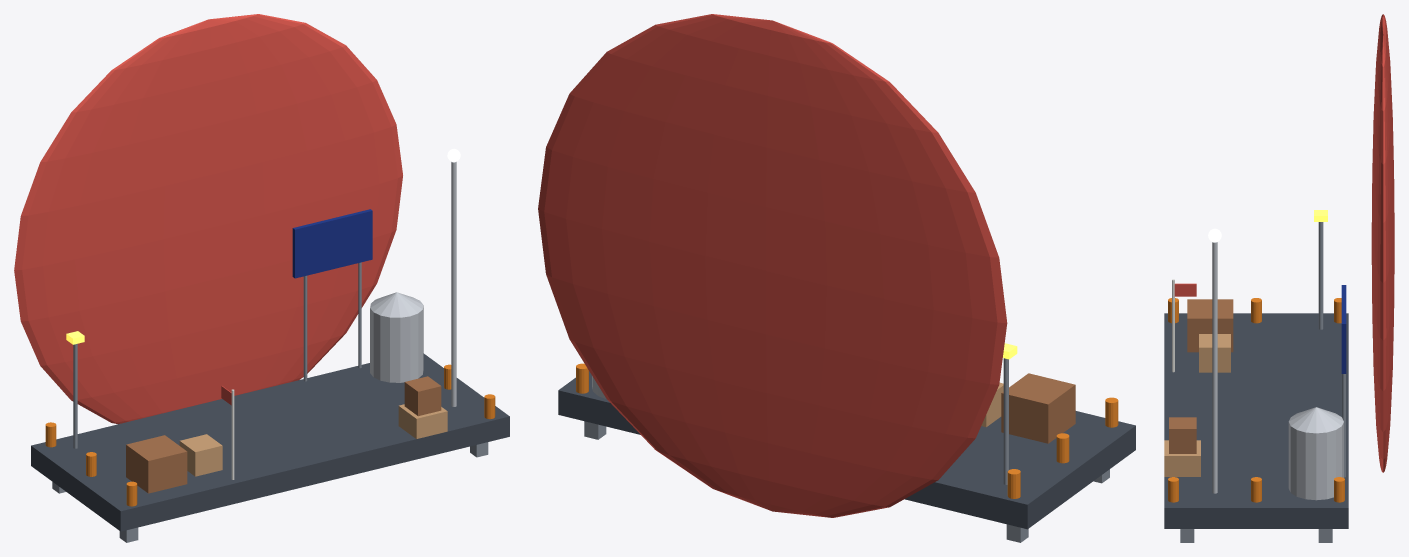
File: site_solar.glb
3 renders of one model, left to right at view 1: azimuth 30°, elevation 25°; view 2: azimuth 150°, elevation 25°; view 3: azimuth 270°, elevation 25°, orthographic. The views are drawn at different scales.
Parts seen in each view (by area): view 1: Sphere.001, Cube, Cube.011, Cylinder.007, Cube.005, Cylinder.008, Cube.006, Cube.008, Cube.007, Cone; view 2: Sphere.001, Cube, Cube.005, Cylinder.006; view 3: Cube, Sphere.001, Cylinder.007, Cube.005, Cylinder.008, Cube.006, Cone, Cube.008, Cube.007, Cylinder.006, Cube.011, Cube.010 (+1 smaller).
Boxes of the visible parts, left/top/right/bottom form: Sphere.001: left=14, top=14, right=402, bottom=424; Cube: left=31, top=353, right=509, bottom=531; Cube.011: left=292, top=209, right=372, bottom=278; Cylinder.007: left=370, top=305, right=423, bottom=382; Cube.005: left=126, top=435, right=187, bottom=493; Cylinder.008: left=451, top=161, right=456, bottom=406; Cube.006: left=179, top=434, right=222, bottom=476; Cube.008: left=404, top=376, right=441, bottom=416; Cube.007: left=398, top=404, right=447, bottom=438; Cone: left=370, top=292, right=423, bottom=317; Sphere.001: left=538, top=14, right=1007, bottom=517; Cube: left=558, top=371, right=1135, bottom=529; Cube.005: left=1001, top=373, right=1075, bottom=443; Cylinder.006: left=1003, top=358, right=1008, bottom=484; Cube: left=1164, top=313, right=1348, bottom=528; Sphere.001: left=1371, top=14, right=1394, bottom=472; Cylinder.007: left=1288, top=422, right=1343, bottom=500; Cube.005: left=1187, top=299, right=1233, bottom=352; Cylinder.008: left=1212, top=242, right=1217, bottom=493; Cube.006: left=1199, top=334, right=1230, bottom=372; Cone: left=1288, top=407, right=1343, bottom=433; Cube.008: left=1169, top=417, right=1196, bottom=453; Cube.007: left=1164, top=440, right=1200, bottom=476; Cylinder.006: left=1318, top=222, right=1323, bottom=329; Cube.011: left=1341, top=285, right=1346, bottom=373; Cube.010: left=1174, top=283, right=1196, bottom=296.
Size of the model in its own units: 10 by 10 by 5.
